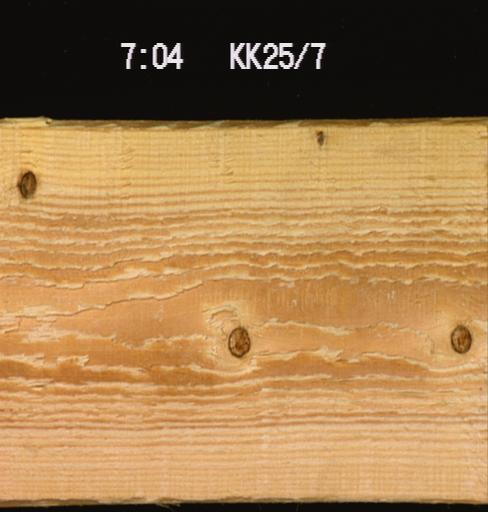dry_knot: (225, 324, 251, 358), (447, 320, 472, 354), (14, 165, 37, 201)
small_knot: (311, 124, 325, 150)
